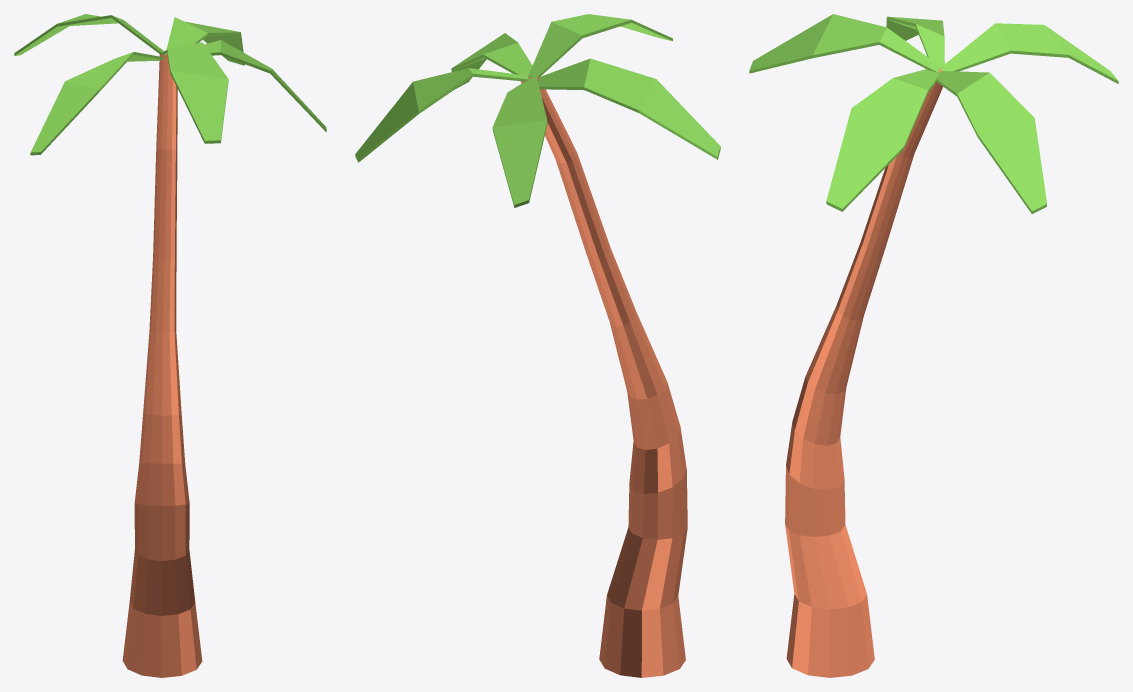
Rendered from Palm2_summer.FBX.
The picture shows the model from 3 angles, left to right: view 1: azimuth 30°, elevation 25°; view 2: azimuth 150°, elevation 25°; view 3: azimuth 270°, elevation 25°; orthographic projection. The views are drawn at different scales.
Visible parts, largest first — view 1: Palm_str; view 2: Palm_str; view 3: Palm_str.
Part boxes in pixels (left/top/right/bottom): Palm_str: left=14, top=14, right=326, bottom=677; Palm_str: left=355, top=14, right=720, bottom=677; Palm_str: left=749, top=14, right=1118, bottom=677.
Bounding box in the file's own units: 3.48 × 7.14 × 3.68.
